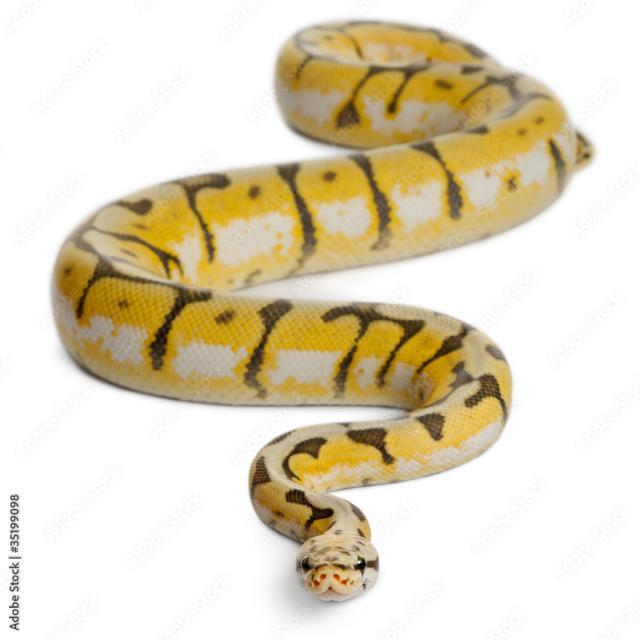Snake: (35, 0, 614, 617)
